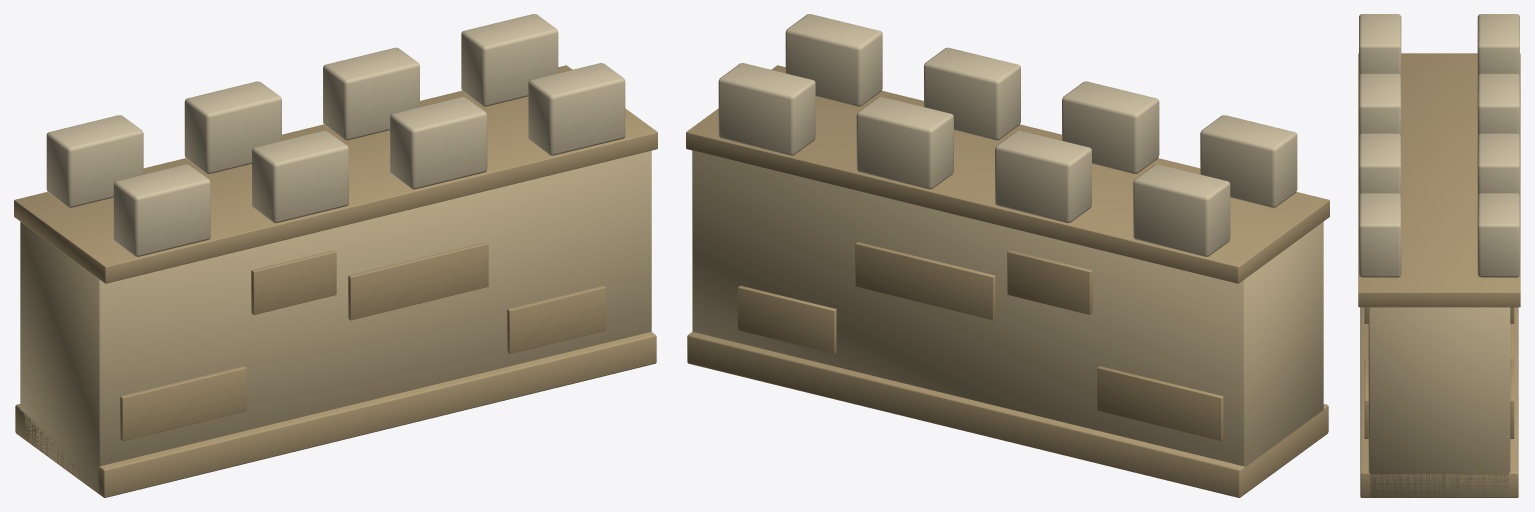
The model's file is k_wall.glb.
The picture shows the model from 3 angles, left to right: view 1: azimuth 30°, elevation 25°; view 2: azimuth 150°, elevation 25°; view 3: azimuth 270°, elevation 25°; orthographic projection. The views are drawn at different scales.
Parts seen in each view (by area): view 1: SK_k_wall; view 2: SK_k_wall; view 3: SK_k_wall.
Boxes of the visible parts, left/top/right/bottom form: SK_k_wall: left=14, top=14, right=657, bottom=497; SK_k_wall: left=686, top=14, right=1329, bottom=497; SK_k_wall: left=1358, top=14, right=1520, bottom=497.
Bounding box in the file's own units: 4 × 2.03 × 1.15.
